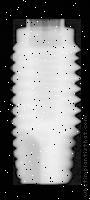Sterngold: (13, 19, 81, 185)
